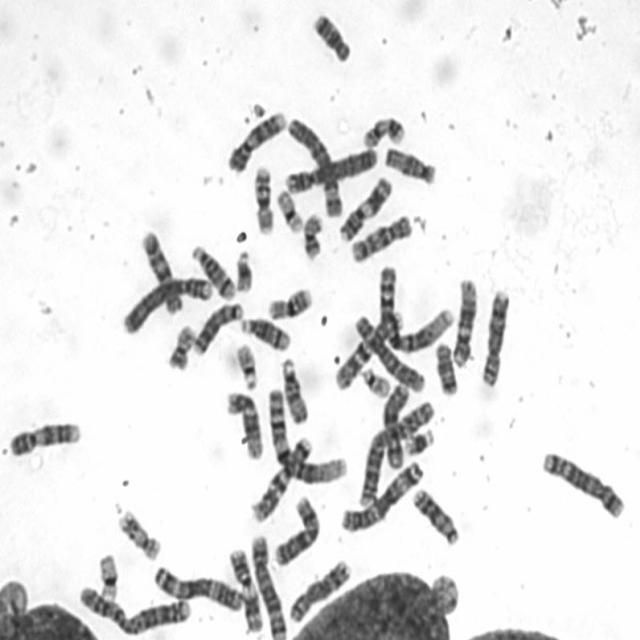A1: (264, 384, 348, 486), (375, 262, 455, 355)
A2: (356, 396, 436, 510), (73, 580, 192, 636)
A3: (337, 457, 426, 534), (150, 561, 244, 613)
B4: (119, 273, 214, 336), (280, 143, 380, 195)
B5: (538, 447, 626, 518), (248, 531, 288, 639)
C10: (138, 226, 184, 316), (346, 211, 413, 265)
C11: (335, 172, 393, 245), (226, 544, 264, 634)
C12: (224, 386, 264, 462), (449, 275, 478, 367)
C6: (284, 114, 343, 220), (352, 310, 426, 394)
C7: (331, 306, 405, 392), (248, 432, 314, 525)
C8: (285, 555, 353, 624), (478, 286, 512, 388)
C9: (224, 107, 288, 173), (6, 417, 82, 458)
D13: (410, 483, 460, 548), (190, 299, 244, 356)
D14: (188, 240, 237, 302), (237, 312, 293, 352)
D15: (382, 142, 436, 185), (278, 354, 310, 426)
E16: (263, 283, 314, 321), (251, 162, 276, 236)
E17: (116, 505, 163, 562), (359, 113, 406, 149)
E18: (310, 8, 353, 66), (432, 339, 460, 396)
F19: (273, 186, 305, 235), (96, 550, 120, 602)
F20: (165, 321, 198, 371), (300, 209, 325, 262)
G21: (402, 424, 436, 457), (234, 245, 254, 294)
G22: (234, 339, 260, 391), (358, 363, 392, 399)
X: (270, 492, 321, 568), (381, 380, 411, 471)
